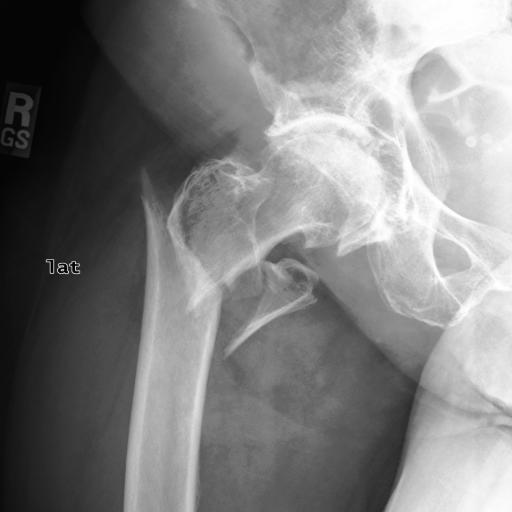intertrochanteric: (165, 132, 383, 316), (140, 167, 221, 338)
lesser-trochanter: (225, 257, 320, 358)
